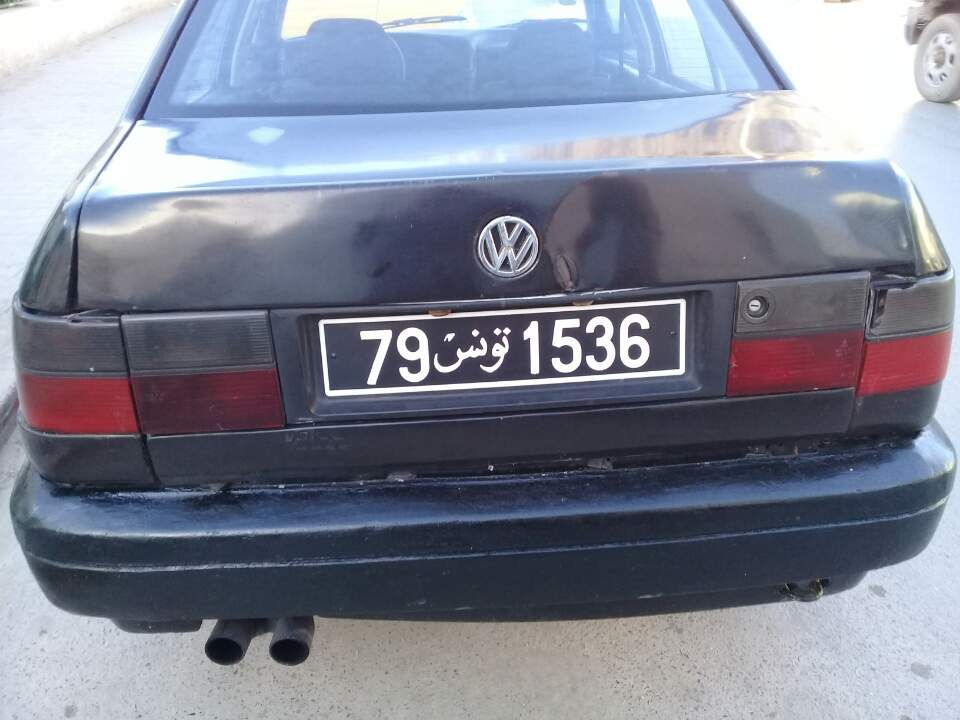LP: (309, 288, 697, 403)
